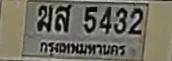2: (128, 7, 142, 34)
3: (113, 7, 127, 33)
4: (99, 6, 111, 33)
5: (83, 6, 97, 32)
A06: (36, 4, 52, 30)
A40: (54, 4, 71, 31)
BKK: (38, 38, 128, 58)
